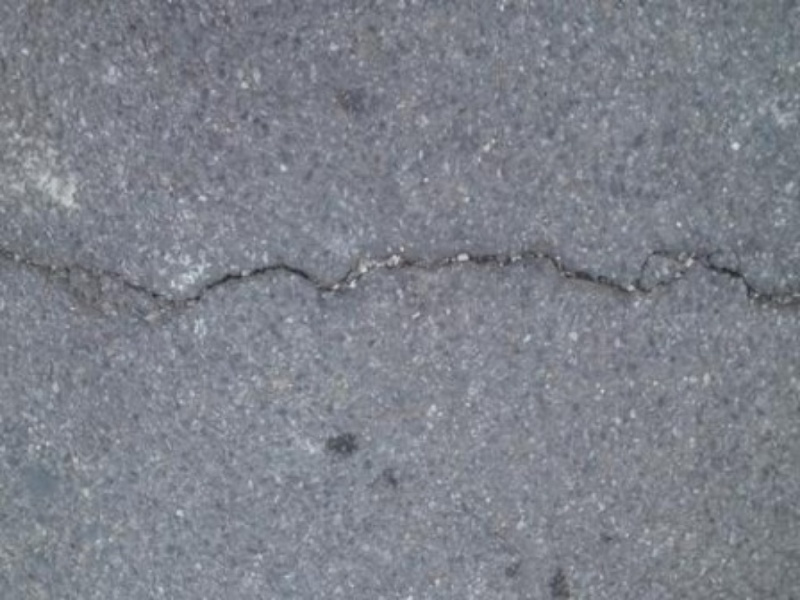crack: (6, 212, 786, 344)
